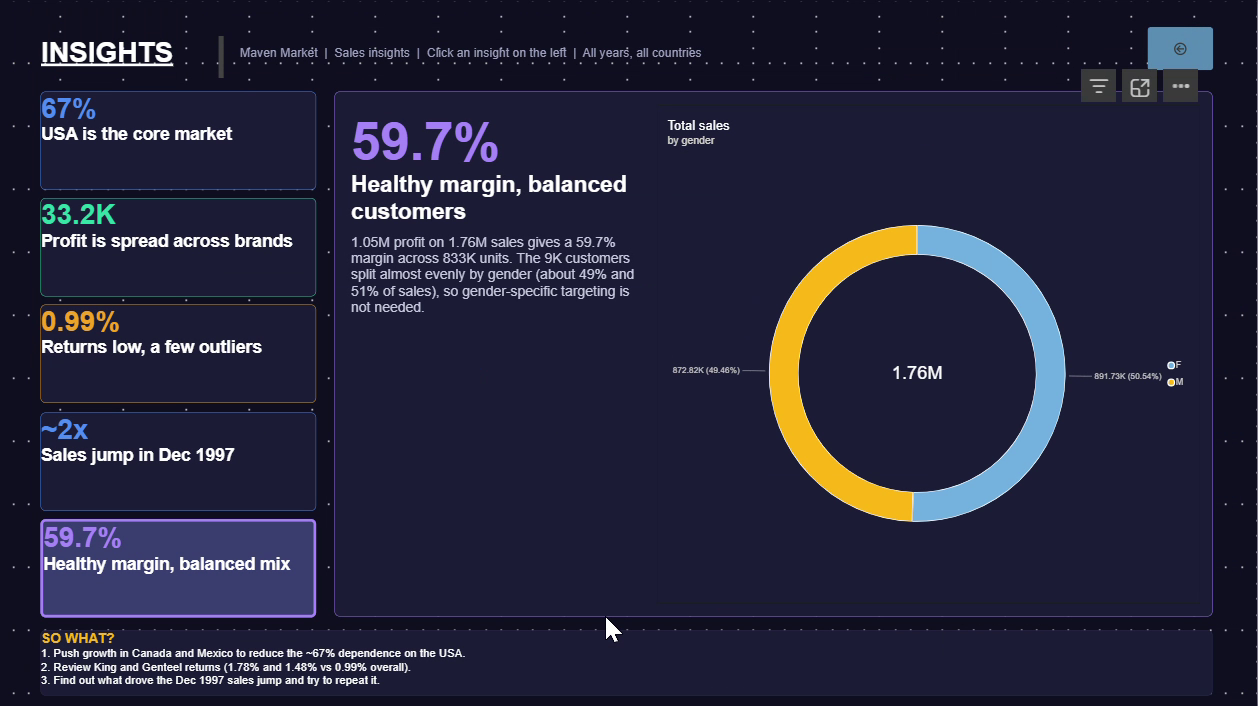

What the dashboard file says about the page in this screenshot:
{"tool":"powerbi","page":{"name":"Insight","canvas":[1920,1080],"ordinal":1},"visuals":[{"type":"textbox","box":[66.8,54.3,279.7,64.7],"z":0},{"type":"textbox","box":[370,70,1100,40],"z":1100},{"type":"actionButton","box":[1753,40,100,66],"z":2100},{"type":"textbox","box":[67,140,420,150],"z":3100},{"type":"textbox","box":[67,302.5,420,150],"z":4100},{"type":"textbox","box":[67,465,420,150],"z":5100},{"type":"textbox","box":[67,627.5,420,150],"z":6100},{"type":"textbox","box":[67,790,420,150],"z":7100},{"type":"textbox","box":[67,140,420,150],"z":8100},{"type":"actionButton","box":[67,140,420,150],"z":13100},{"type":"actionButton","box":[67,302.5,420,150],"z":14100},{"type":"actionButton","box":[67,465,420,150],"z":15100},{"type":"actionButton","box":[67,627.5,420,150],"z":16100},{"type":"actionButton","box":[67,790,420,150],"z":17100},{"type":"textbox","box":[515,140,1338,800],"z":18100},{"type":"textbox","box":[539,170,440,740],"z":19100},{"type":"clusteredColumnChart","fields":{"Category":["Customers.customer_country"],"Y":["Transaction_All.Total_sales"]},"box":[1005,160,828,760],"z":20100},{"type":"textbox","box":[67,960,1786,100],"z":33100}]}

Visuals, with their boxes in screenshot pixels (x1, y1, x2, y2), scaled from the page's 1920x1080 canvas onto the 1258x706 screenshot:
textbox: l=44, t=35, r=227, b=78
textbox: l=242, t=46, r=963, b=72
actionButton: l=1149, t=26, r=1214, b=69
textbox: l=44, t=92, r=319, b=190
textbox: l=44, t=198, r=319, b=296
textbox: l=44, t=304, r=319, b=402
textbox: l=44, t=410, r=319, b=508
textbox: l=44, t=516, r=319, b=614
textbox: l=44, t=92, r=319, b=190
actionButton: l=44, t=92, r=319, b=190
actionButton: l=44, t=198, r=319, b=296
actionButton: l=44, t=304, r=319, b=402
actionButton: l=44, t=410, r=319, b=508
actionButton: l=44, t=516, r=319, b=614
textbox: l=337, t=92, r=1214, b=614
textbox: l=353, t=111, r=641, b=595
clusteredColumnChart - Customers.customer_country x Transaction_All.Total_sales: l=658, t=105, r=1201, b=601
textbox: l=44, t=628, r=1214, b=693
